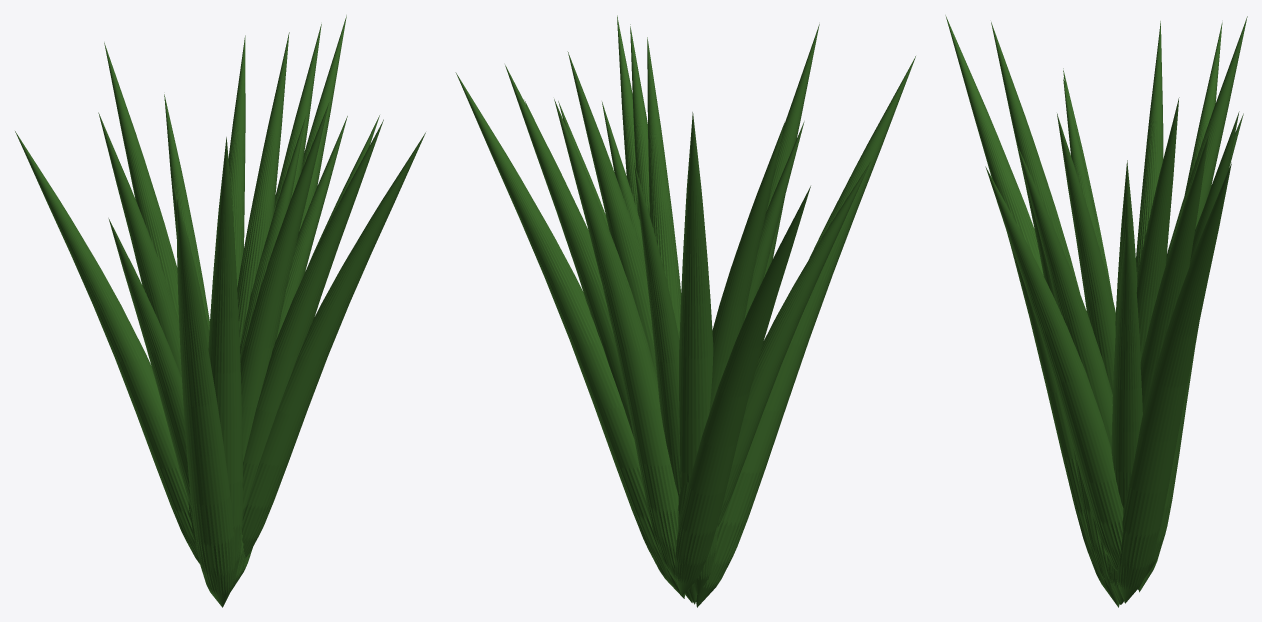
File: plants.gltf
3 views of the same model, side by side, from view 1: azimuth 30°, elevation 25°; view 2: azimuth 150°, elevation 25°; view 3: azimuth 270°, elevation 25° (orthographic). The views are drawn at different scales.
Visible parts, largest first — view 1: Cone.003; view 2: Cone.003; view 3: Cone.003.
Part boxes in pixels (left/top/right/bottom): Cone.003: left=15, top=15, right=425, bottom=607; Cone.003: left=455, top=15, right=915, bottom=607; Cone.003: left=945, top=15, right=1247, bottom=607.
Size of the model in its own units: 2.21 by 3.35 by 1.63.
